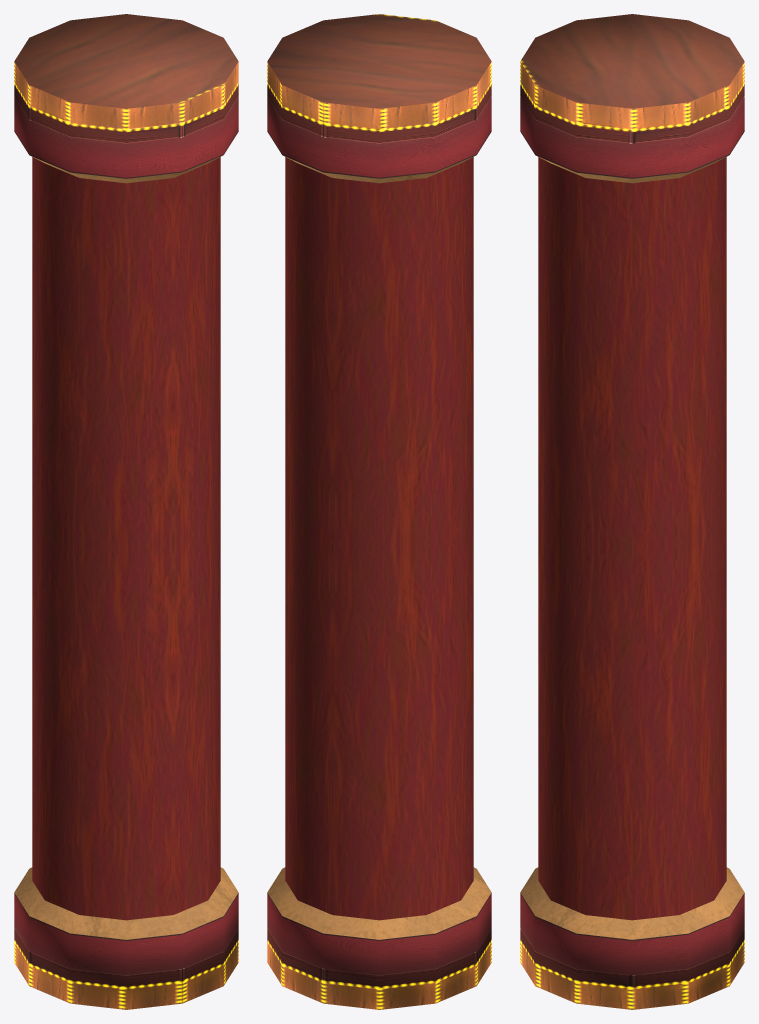
The model's file is Column_Art.fbx.
3 views of the same model, side by side, from view 1: azimuth 30°, elevation 25°; view 2: azimuth 150°, elevation 25°; view 3: azimuth 270°, elevation 25° (orthographic).
Visible parts, largest first — view 1: Column_Art; view 2: Column_Art; view 3: Column_Art.
Boxes of the visible parts, box(x1,y1,x2,y2) form: Column_Art: box(14, 14, 238, 1009); Column_Art: box(267, 14, 491, 1009); Column_Art: box(520, 14, 744, 1009).
Size of the model in its own units: 1.49 by 6.58 by 1.49.
